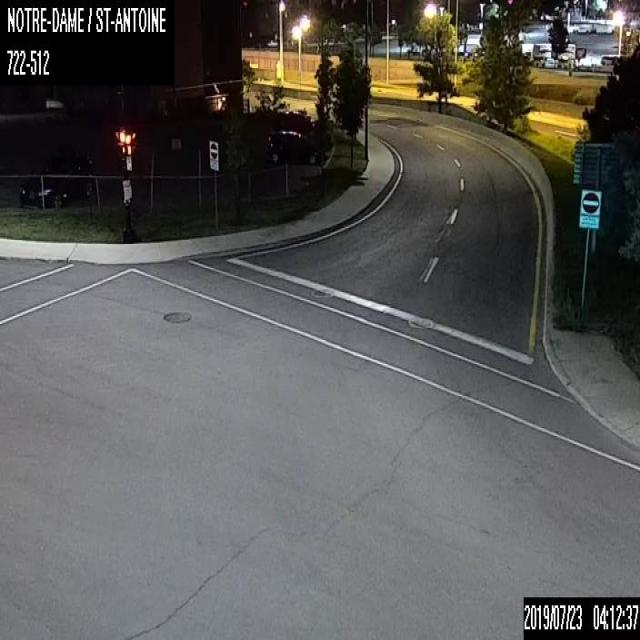vehicle: (18, 150, 95, 208), (267, 128, 324, 164)
